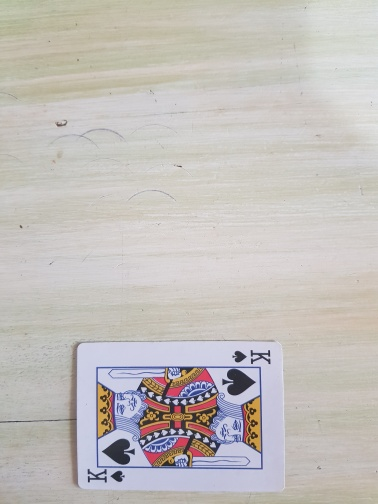king: (75, 340, 287, 494)
